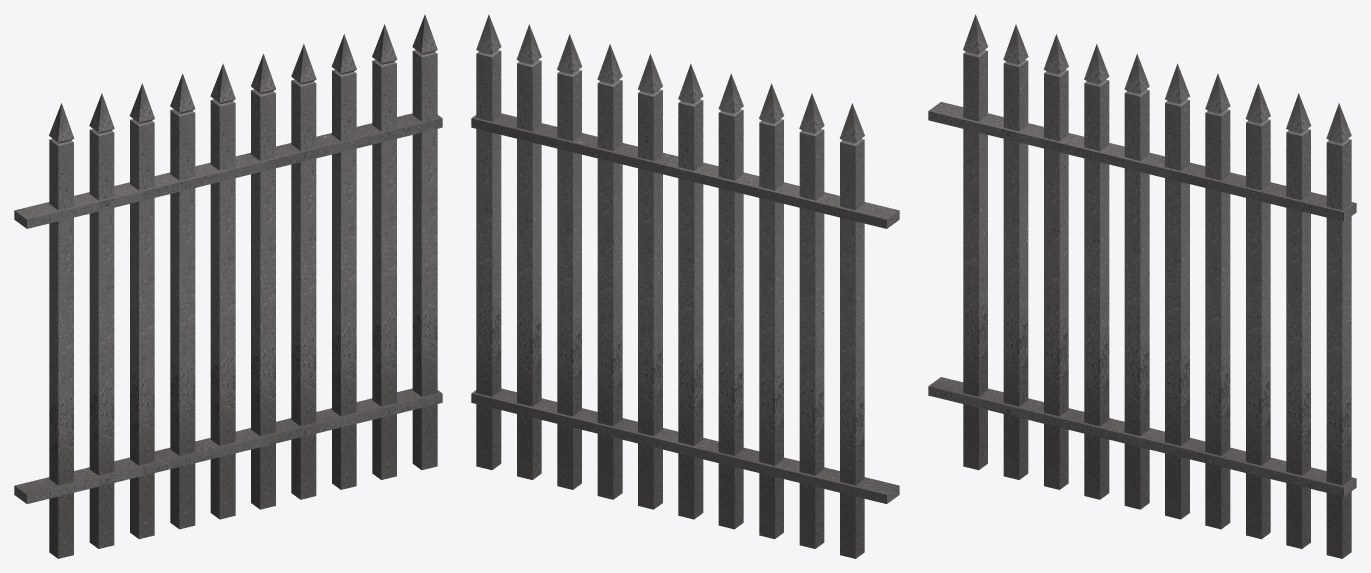
Rendered from brick_wall_gate.glb.
3 renders of one model, left to right at view 1: azimuth 30°, elevation 25°; view 2: azimuth 150°, elevation 25°; view 3: azimuth 330°, elevation 25°, orthographic.
Parts seen in each view (by area): view 1: brick_wall_gate; view 2: brick_wall_gate; view 3: brick_wall_gate.
Boxes of the visible parts, box(x1,y1,x2,y2) form: brick_wall_gate: box(14, 14, 442, 558); brick_wall_gate: box(471, 14, 899, 558); brick_wall_gate: box(928, 14, 1356, 558).
Bounding box in the file's own units: 1.58 × 1.64 × 0.084.
1 material, 1 textured.
